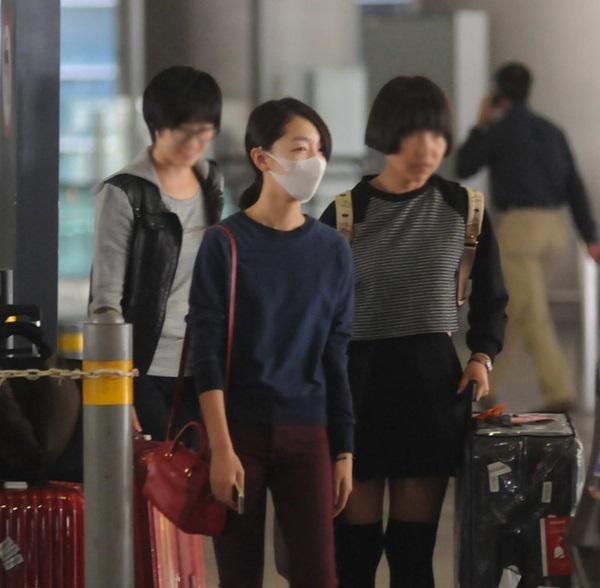NONE: (389, 128, 450, 182), (158, 121, 214, 168)
OK: (261, 134, 329, 202)
